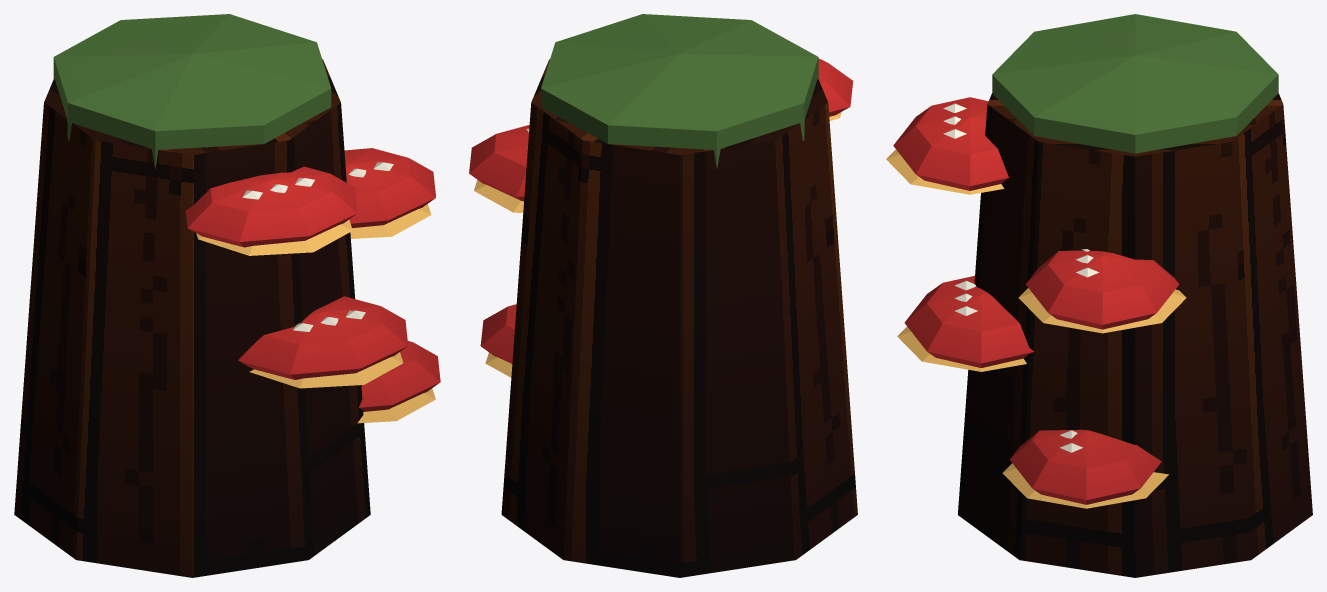
Rendered from toadstool_shelf.glb.
3 renders of one model, left to right at view 1: azimuth 30°, elevation 25°; view 2: azimuth 150°, elevation 25°; view 3: azimuth 270°, elevation 25°, orthographic.
Parts seen in each view (by area): view 1: toadstool_shelf; view 2: toadstool_shelf; view 3: toadstool_shelf.
Boxes of the visible parts, x1,y1,x2,y2 form: toadstool_shelf: [14, 14, 440, 577]; toadstool_shelf: [469, 14, 857, 577]; toadstool_shelf: [886, 14, 1312, 577].
Size of the model in its own units: 1.42 by 1.64 by 1.42.
Materials: 3 (1 with a texture image).
